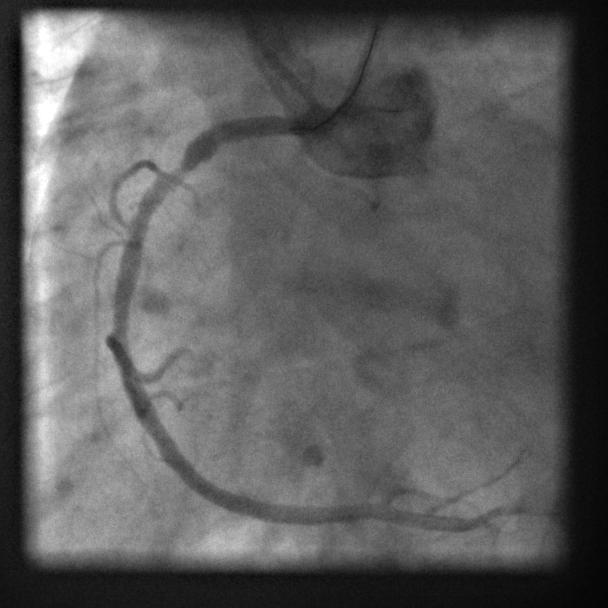Stenosis: (157, 145, 198, 197)
